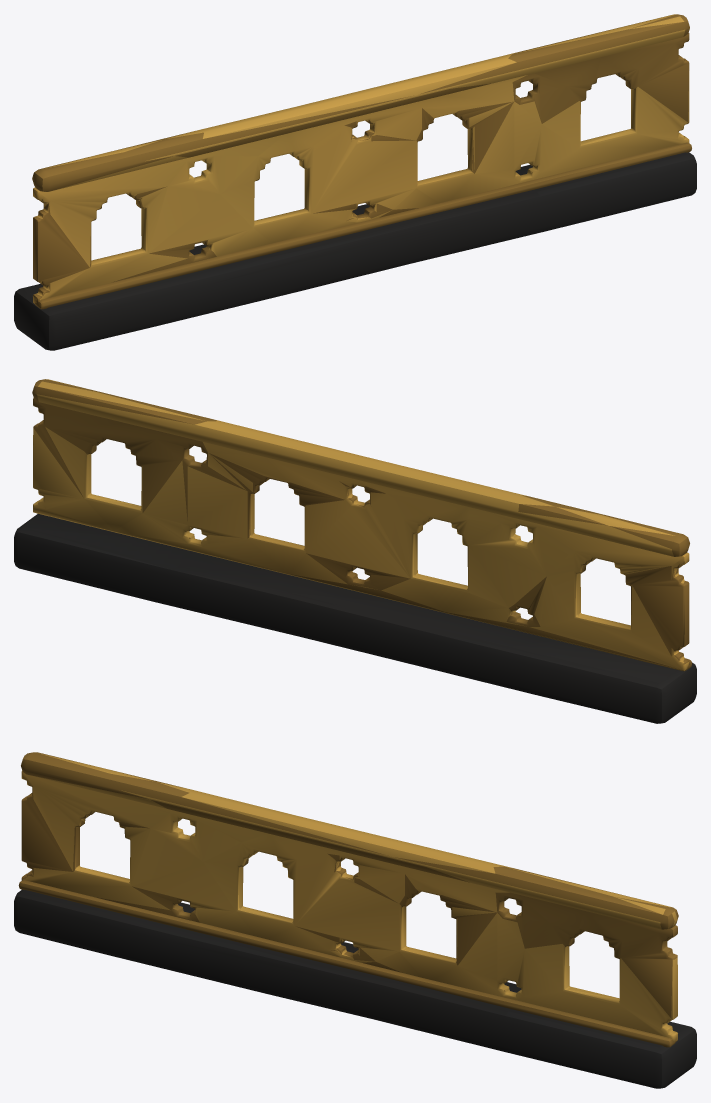
Rendered from ember_fender_b_lod1.glb.
3 renders of one model, top to bottom at view 1: azimuth 30°, elevation 25°; view 2: azimuth 150°, elevation 25°; view 3: azimuth 330°, elevation 25°, orthographic.
Parts seen in each view (by area): view 1: ember_fender_b.001; view 2: ember_fender_b.001; view 3: ember_fender_b.001.
Part boxes in pixels (x1,y1,x2,y2): ember_fender_b.001: (14,14,696,350); ember_fender_b.001: (14,379,696,723); ember_fender_b.001: (14,752,696,1088).
Size of the model in its own units: 40.03 by 10.23 by 4.01.
